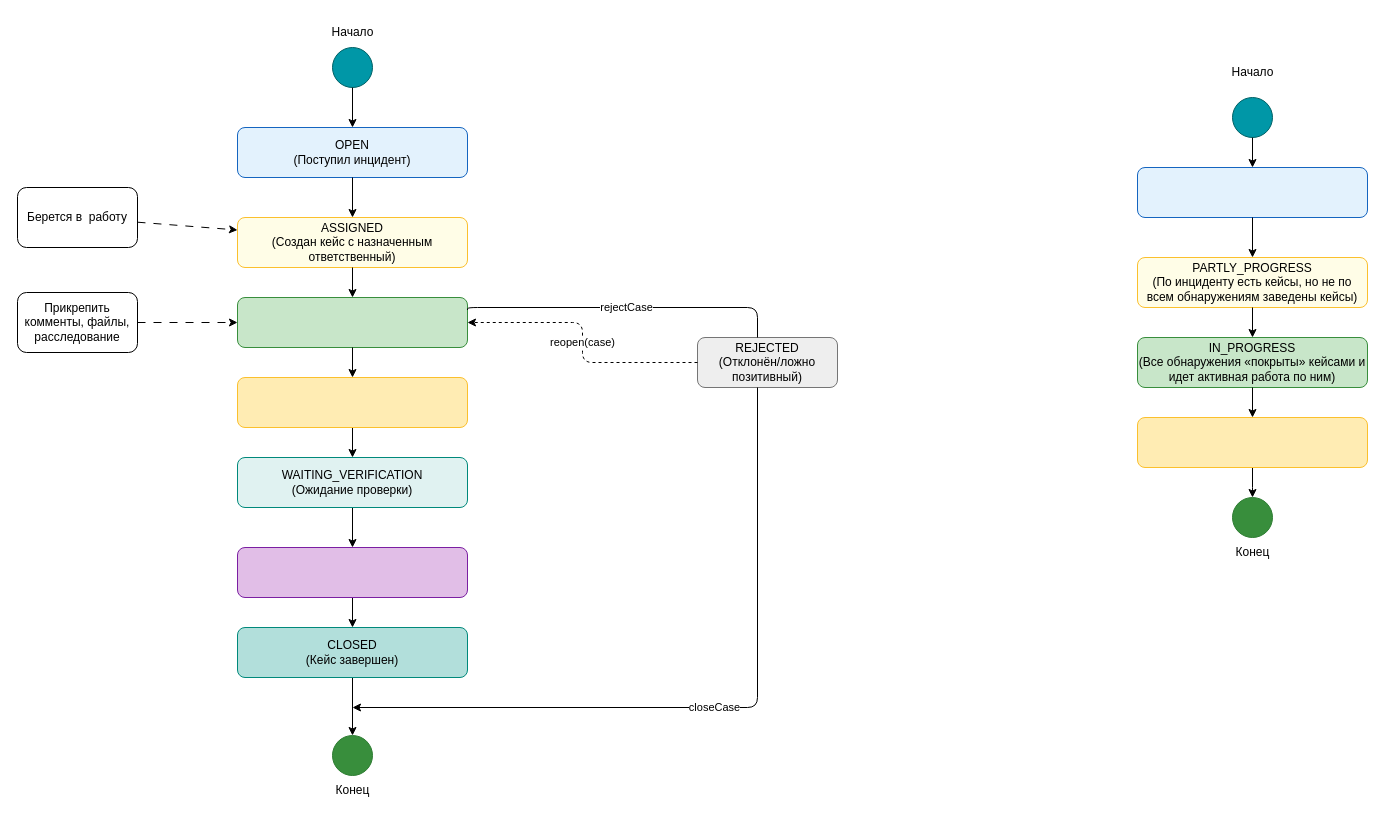
The diagram is 1385 pixels wide and 822 high, and some of its shapes have lost their labels. The centre of each missing label's shape, as x and y in pixels:
ACTION_IN_PROGRESS (Исполнение мероприятий): point (352, 572)
ACTION_PLAN (План действий): point (352, 402)
INVESTIGATING (Расследование): point (352, 322)
OPEN (Инцидент создан из Kafka/outbox): point (1252, 192)
RESOLVED (Все кейсы закрыты): point (1252, 442)
